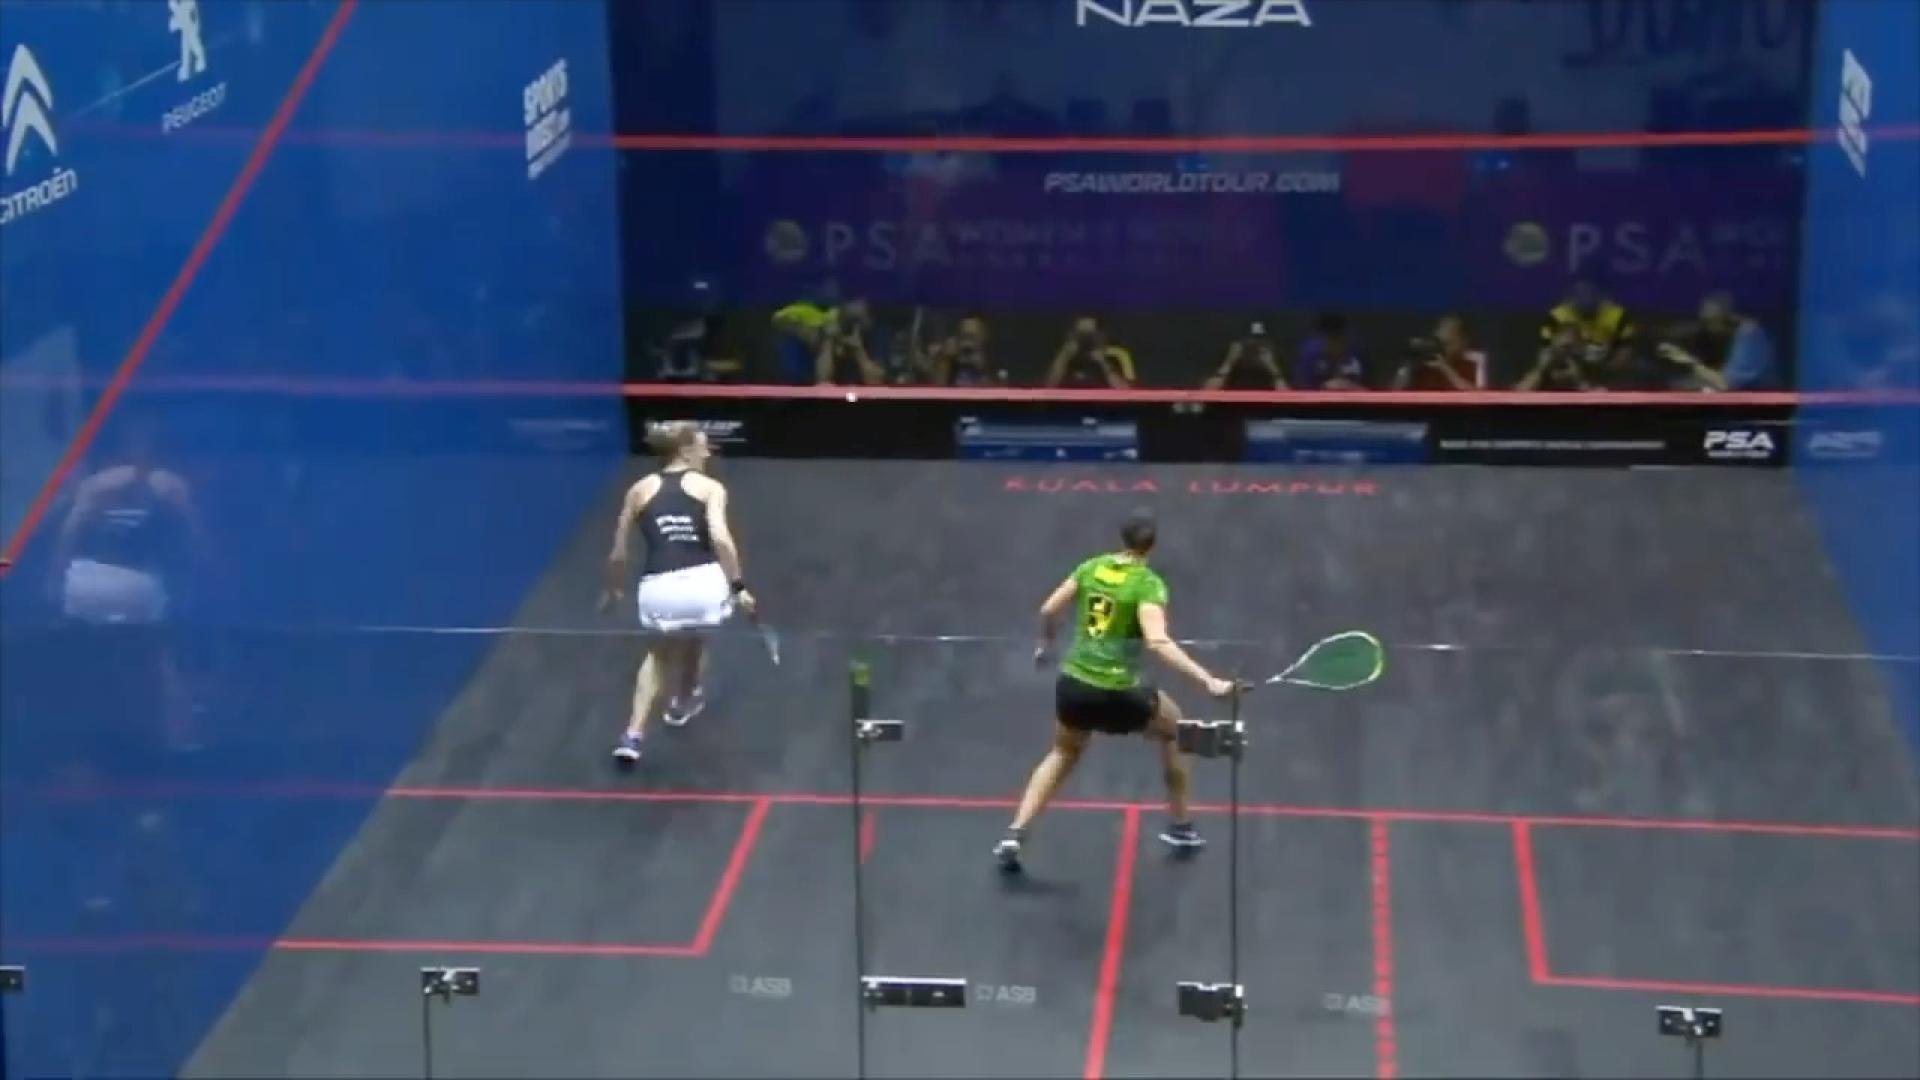Squash-Ball: (827, 377, 870, 419)
